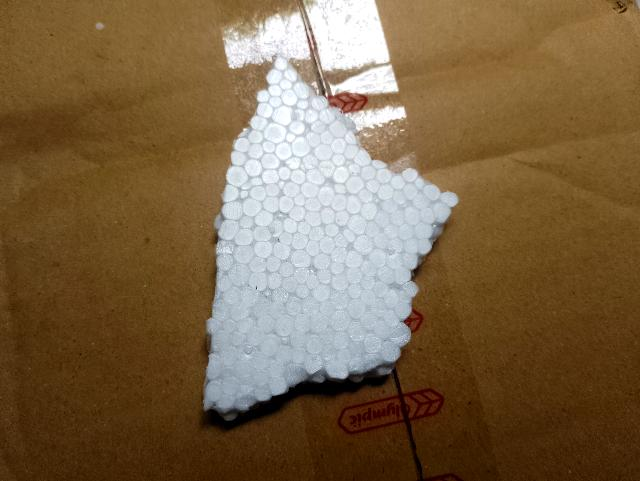cocksheet: (199, 83, 448, 412)
